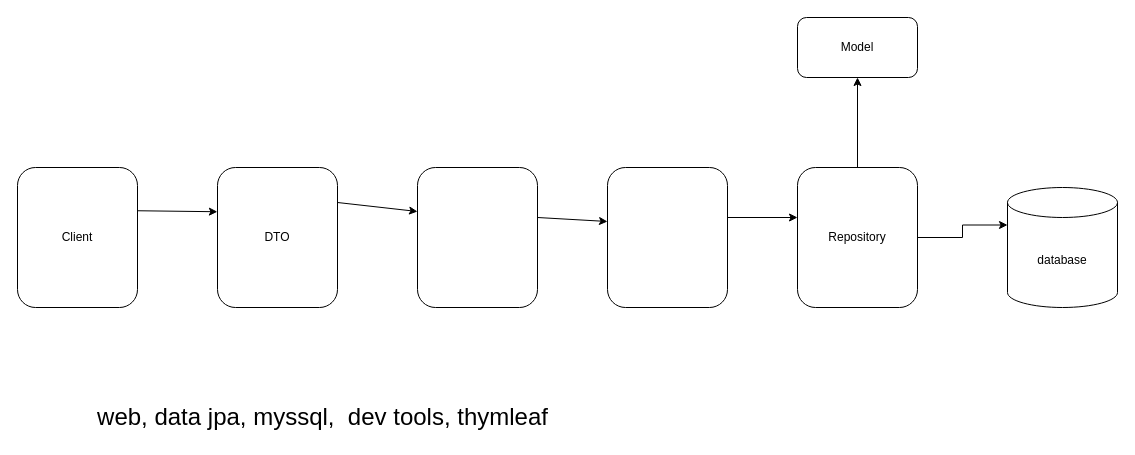
This 1135x455 diagram has some shape labels left out. Each missing label, with the centre of its shape:
Controller: point (477, 237)
Service: point (667, 237)
